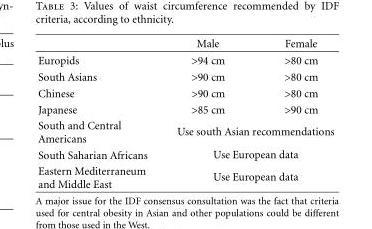table: (37, 37, 333, 189)
table column: (37, 37, 161, 189), (161, 37, 253, 189), (253, 37, 333, 189)
table column header: (37, 37, 333, 51)
table row: (37, 117, 333, 146), (37, 162, 333, 189), (37, 51, 333, 68), (37, 84, 333, 101), (37, 68, 333, 84), (37, 101, 333, 117), (37, 146, 333, 162), (37, 37, 333, 51)
table spanning cell: (161, 117, 333, 146), (161, 162, 333, 189), (161, 146, 333, 162)
